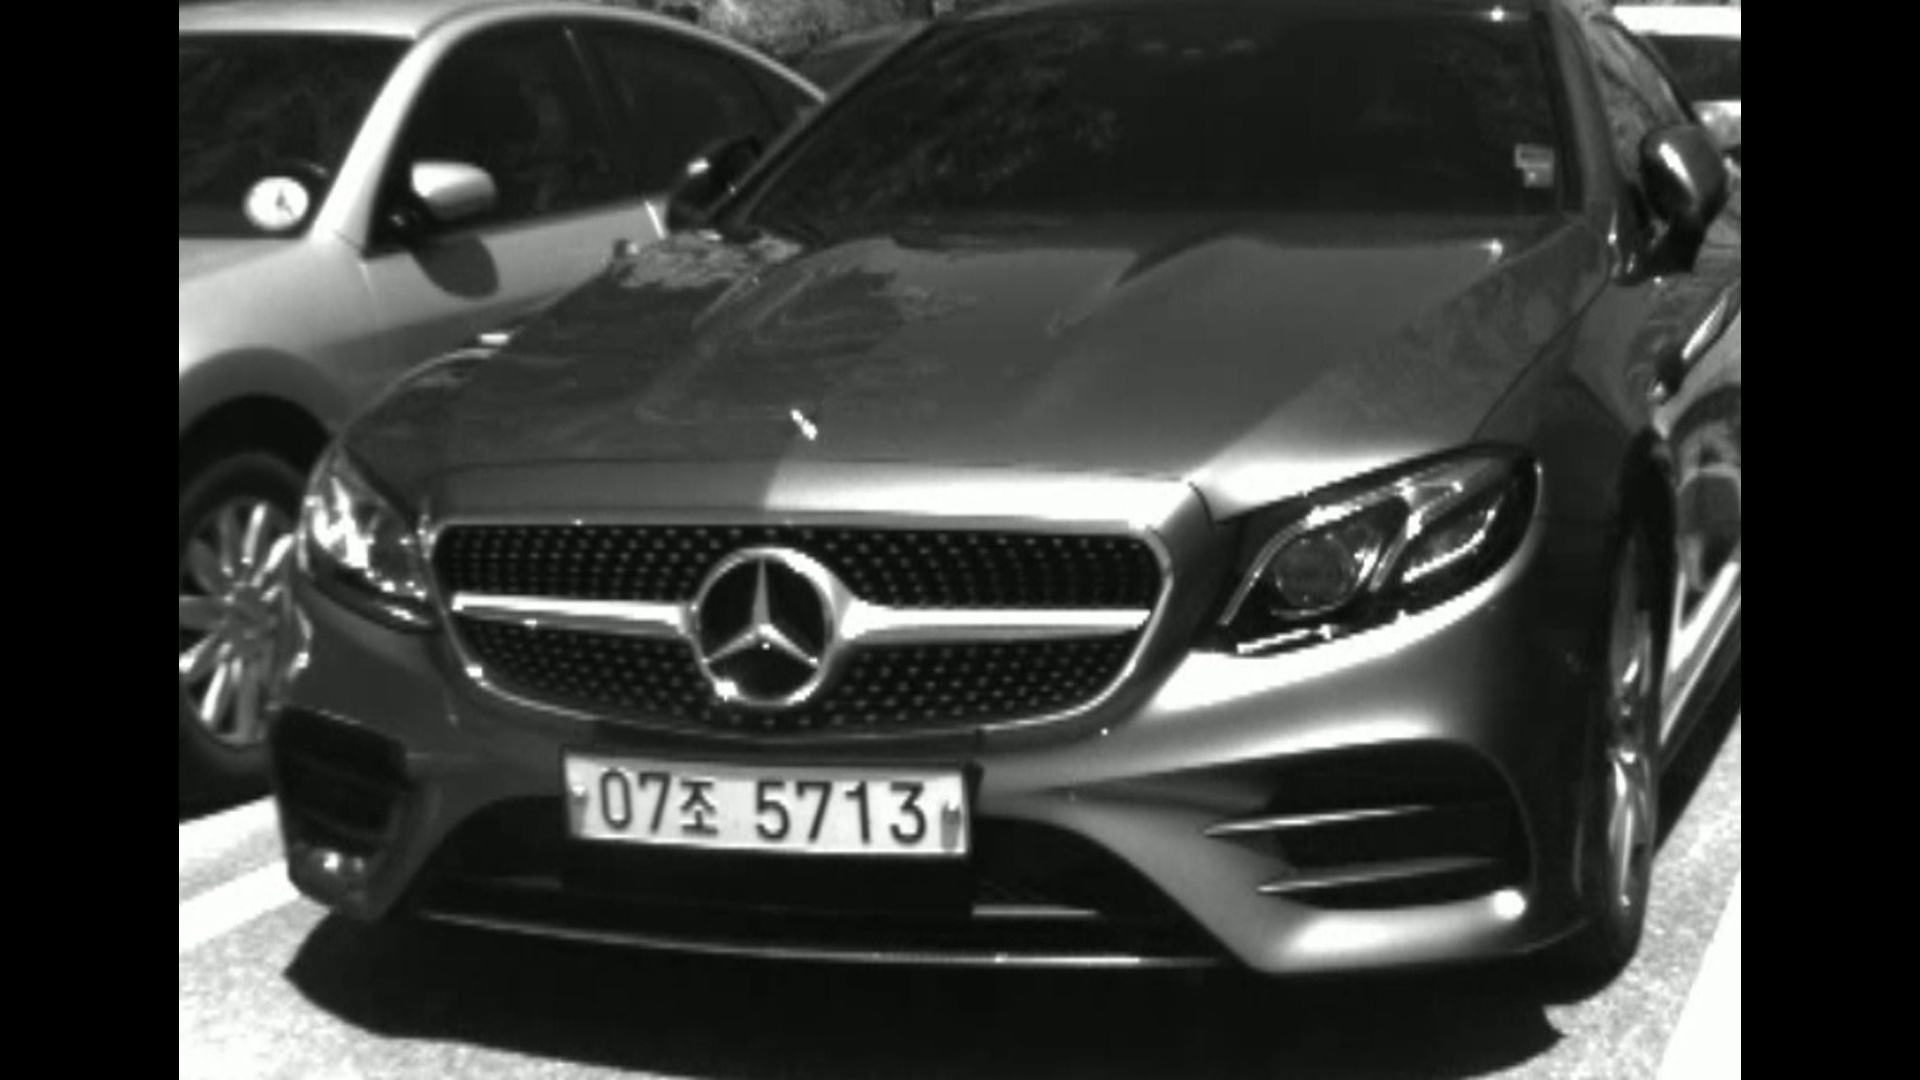license_plate: (556, 738, 976, 864)
